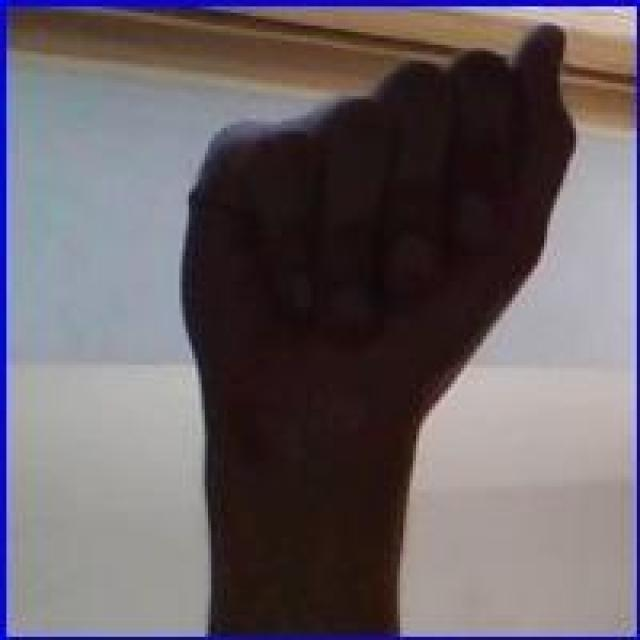A: (178, 20, 587, 418)
